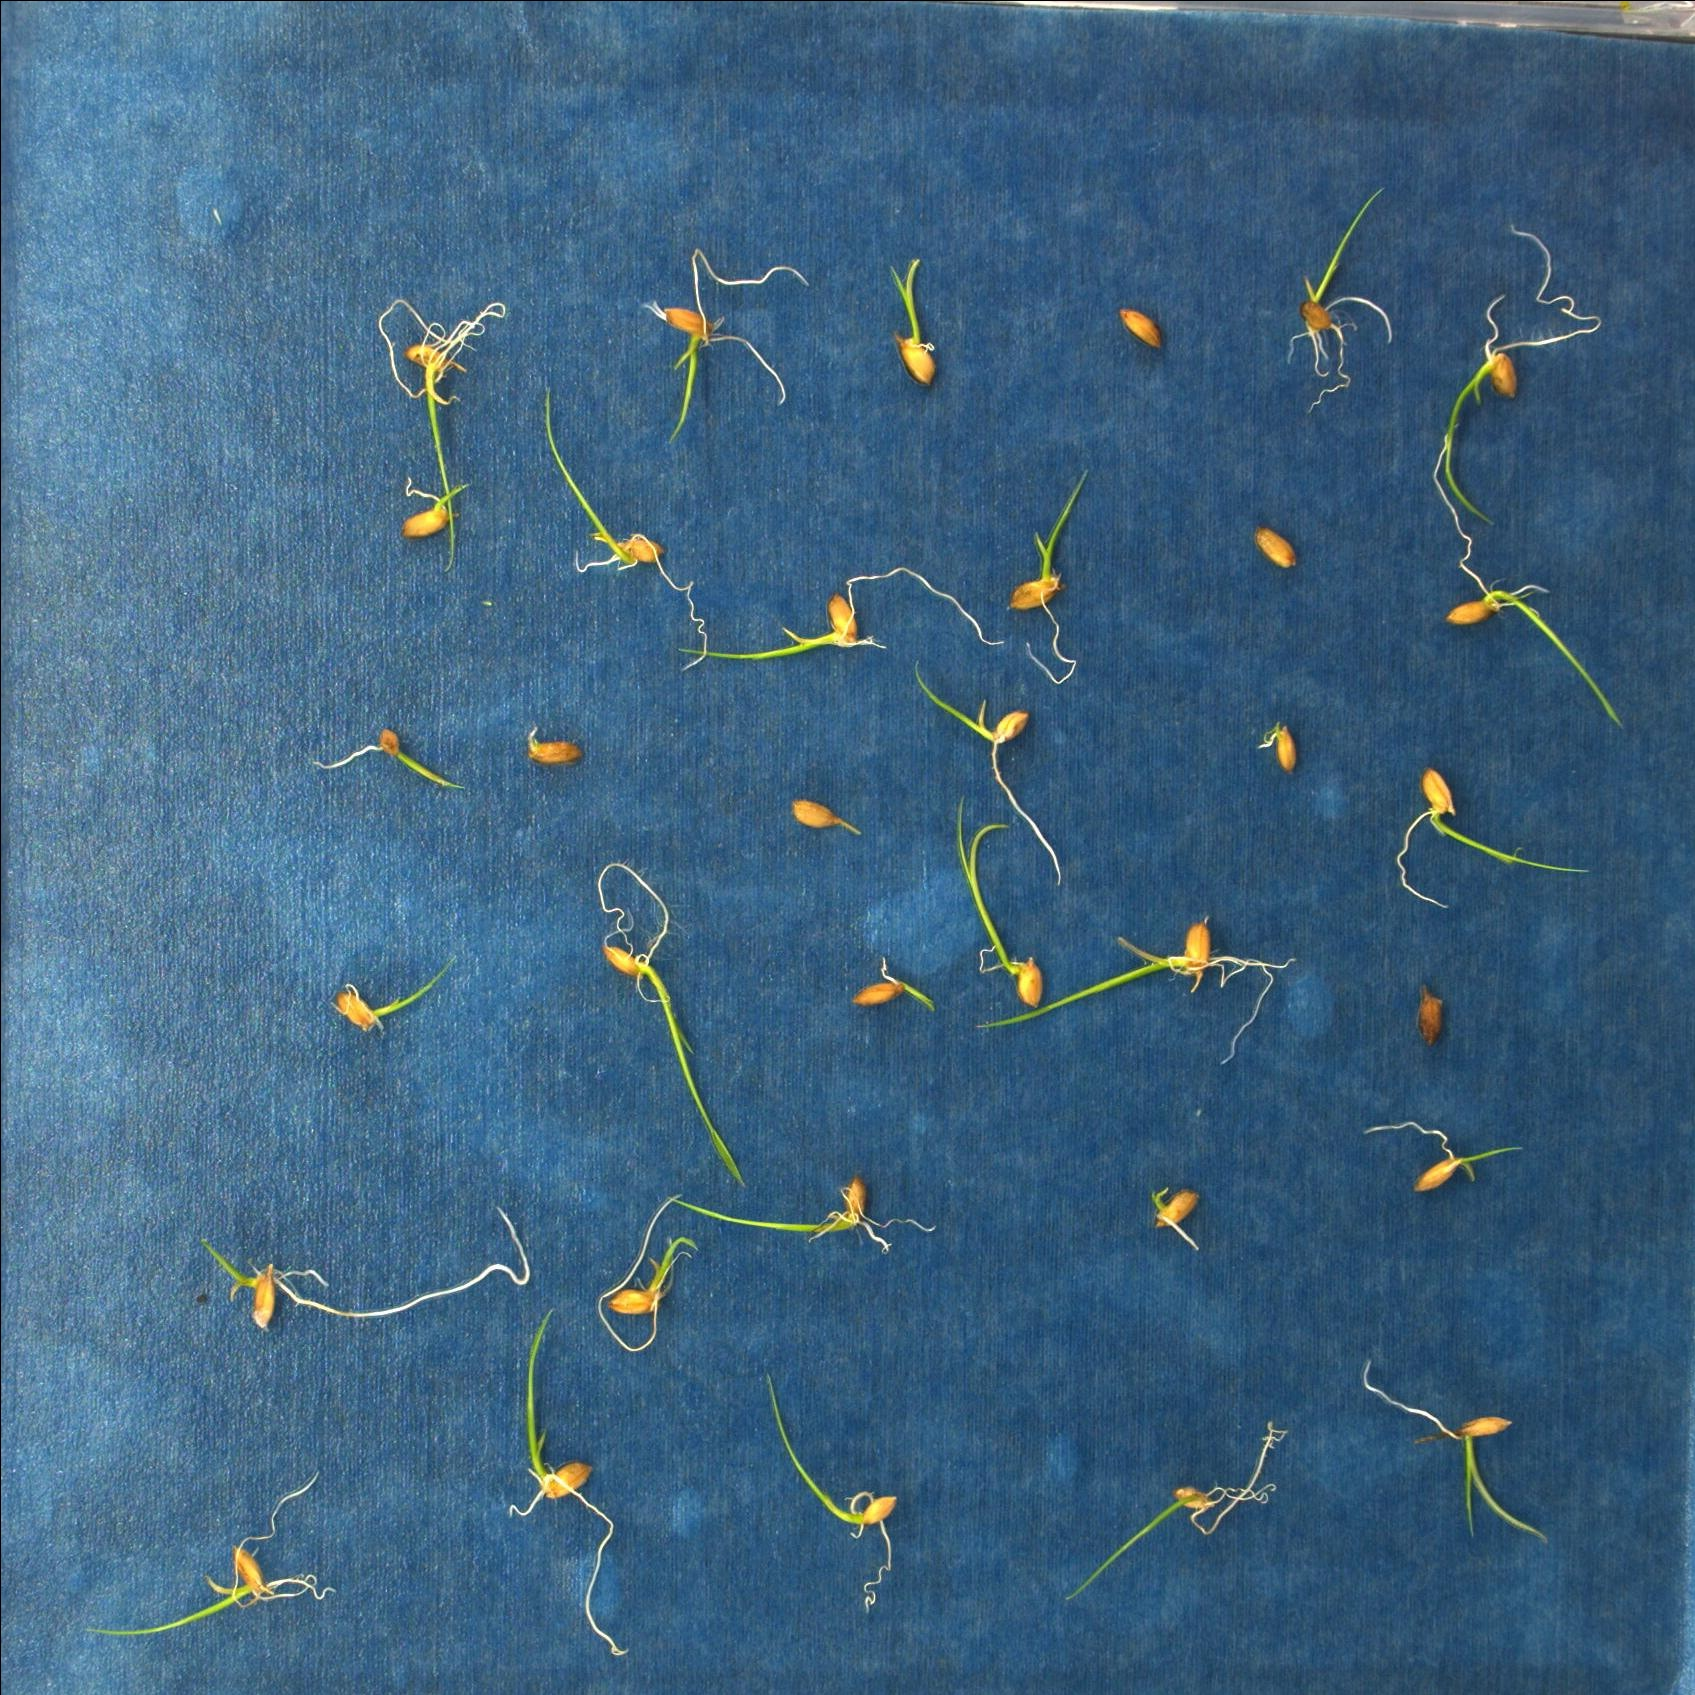not sprout: (792, 796, 860, 837), (525, 725, 584, 767), (1253, 525, 1301, 571), (1119, 306, 1166, 352), (1257, 722, 1298, 775), (1417, 986, 1444, 1048)
sprout: (1433, 428, 1628, 733), (596, 863, 748, 1191), (1444, 222, 1600, 528), (973, 922, 1298, 1066), (543, 386, 708, 669), (508, 1307, 629, 1658), (85, 1471, 335, 1638), (200, 1208, 529, 1330), (1065, 1420, 1287, 1600), (376, 300, 506, 574), (1361, 1360, 1549, 1548), (914, 661, 1063, 886), (641, 248, 809, 444), (765, 1374, 899, 1613), (677, 565, 1004, 661), (1395, 765, 1591, 910), (1285, 188, 1391, 416), (664, 1173, 936, 1256), (955, 796, 1043, 1009), (1009, 469, 1090, 685), (598, 1194, 698, 1354), (1361, 1122, 1524, 1194), (314, 723, 467, 789), (335, 955, 458, 1028), (889, 258, 936, 386), (854, 958, 934, 1012), (404, 481, 470, 540), (1152, 1187, 1201, 1253)
